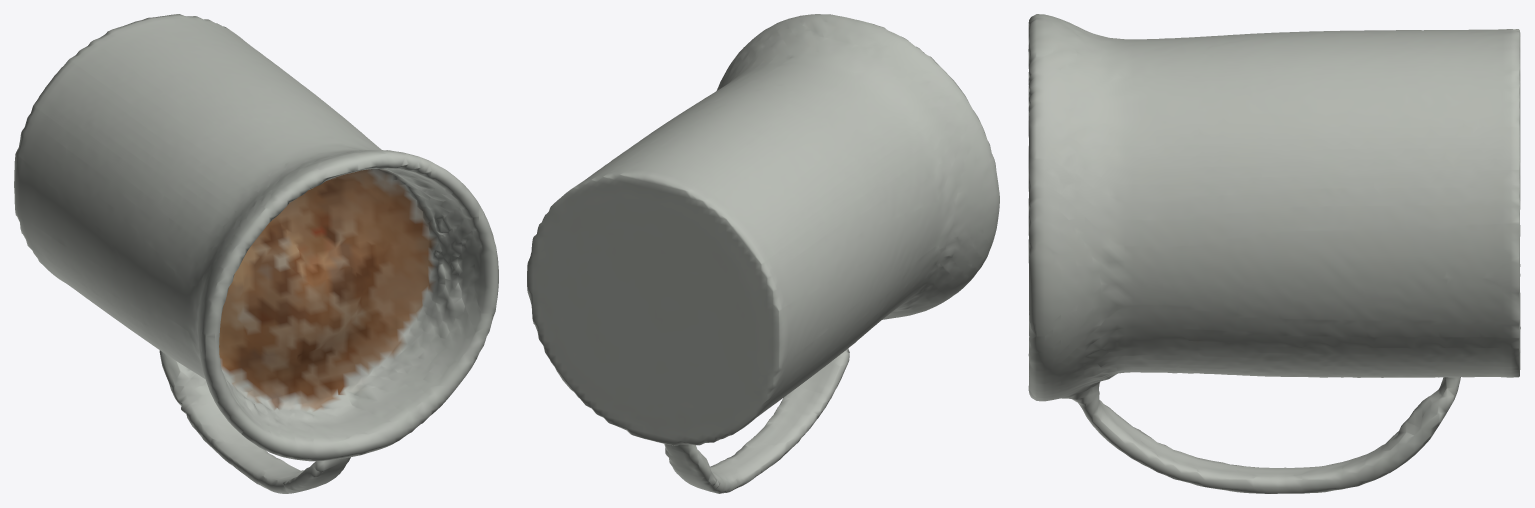
Rendered from a mug to contain objects.obj.
3 renders of one model, left to right at view 1: azimuth 30°, elevation 25°; view 2: azimuth 150°, elevation 25°; view 3: azimuth 270°, elevation 25°, orthographic. The views are drawn at different scales.
Bounding box in the file's own units: 0.7938 × 1 × 0.9912.
